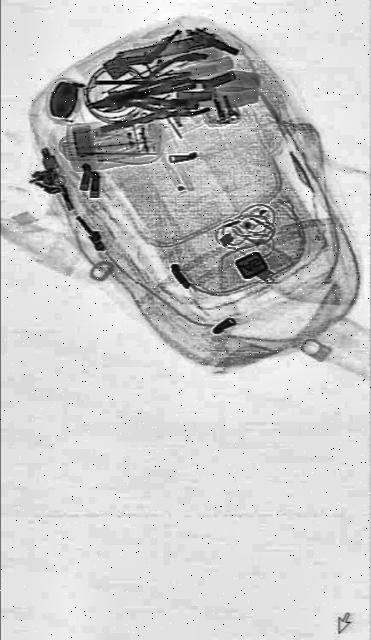Pliers: (84, 49, 212, 141)
